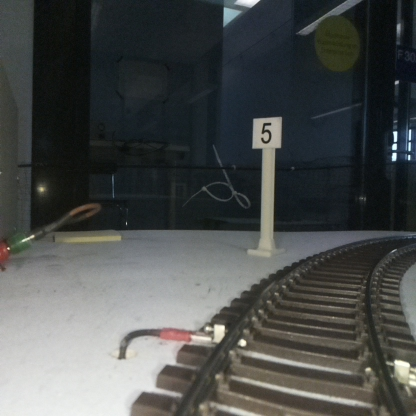white-info-5: (253, 117, 281, 253)
